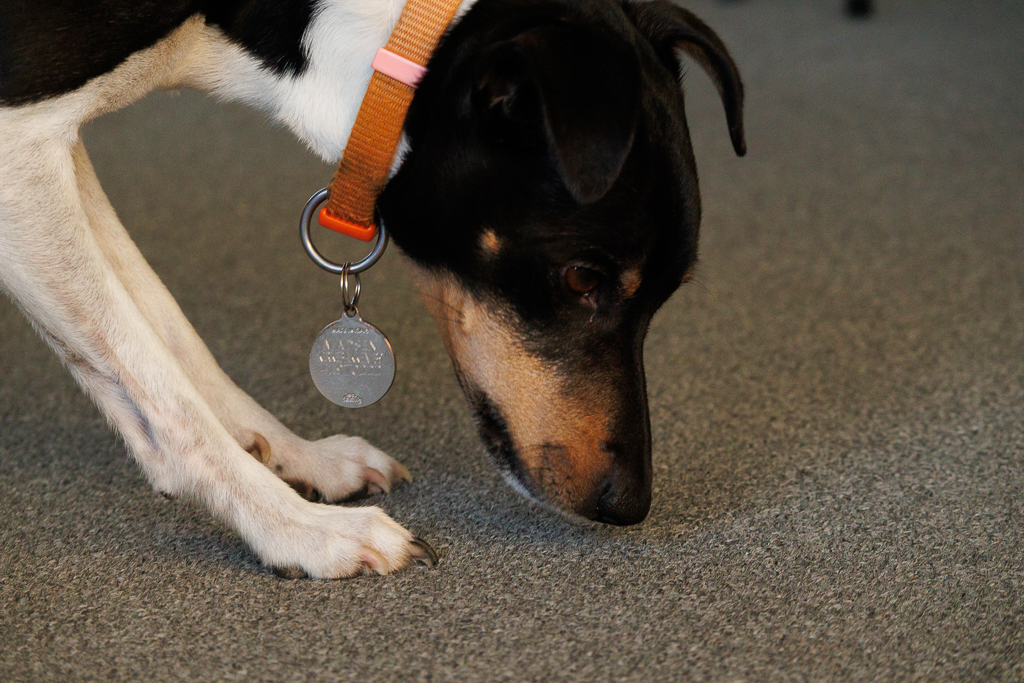Dog: (0, 0, 761, 588)
